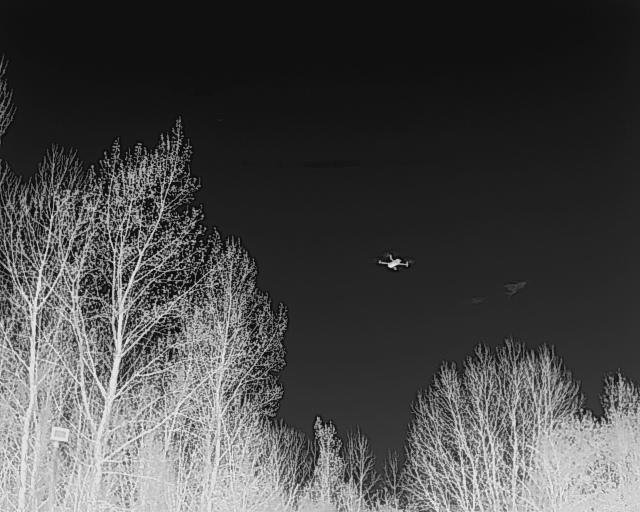drone: (367, 247, 418, 275)
